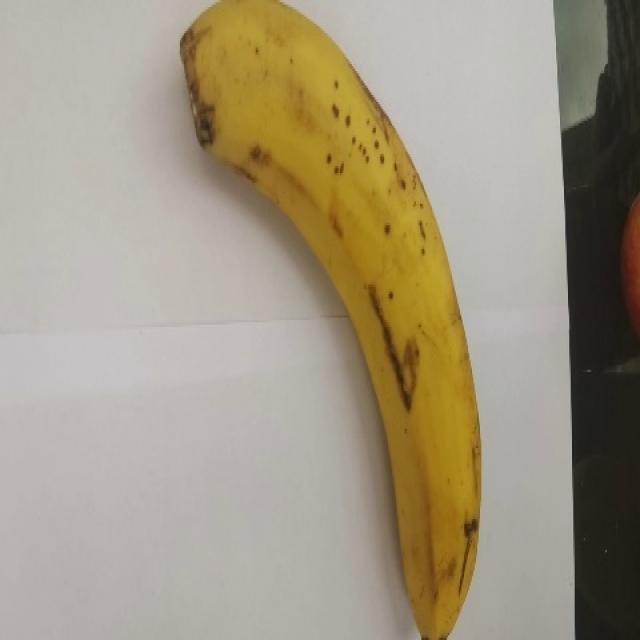Apple: (619, 190, 639, 336)
Banana: (178, 0, 483, 639)
